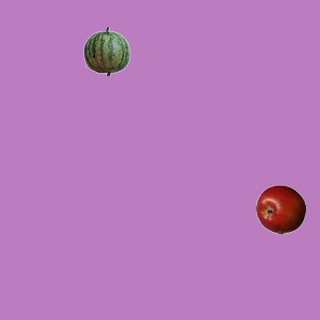Apple Braeburn: (255, 184, 305, 234)
Watermelon: (81, 26, 131, 76)
